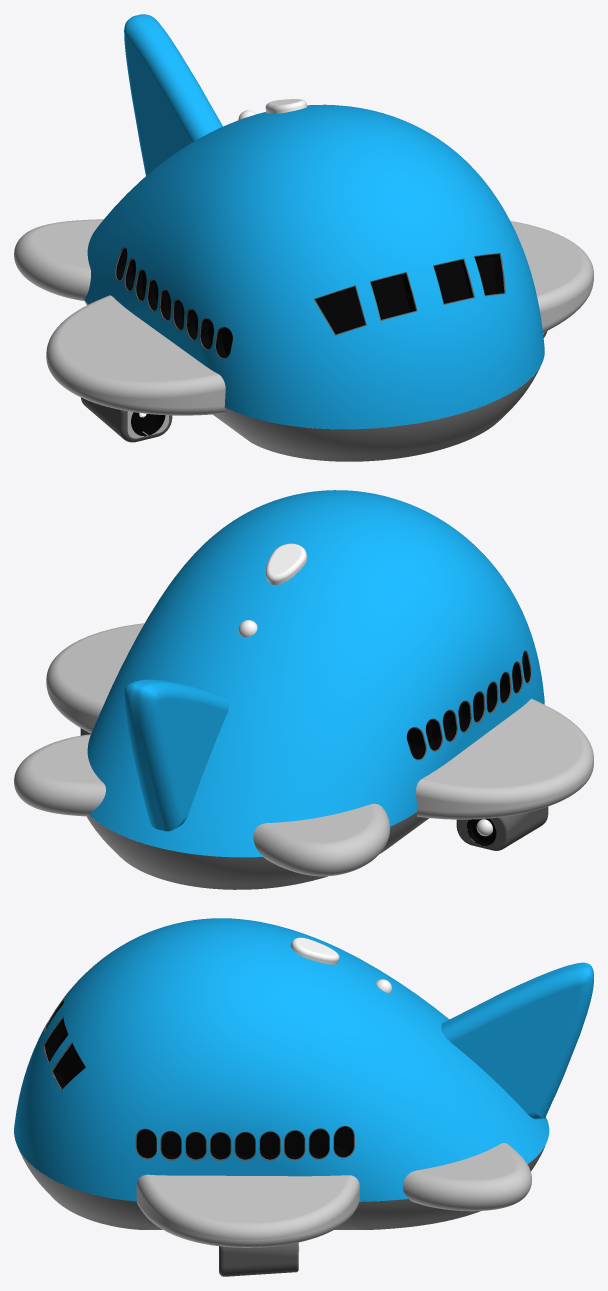
File: 3dplane.glb
The picture shows the model from 3 angles, top to bottom: view 1: azimuth 30°, elevation 25°; view 2: azimuth 150°, elevation 25°; view 3: azimuth 270°, elevation 25°; orthographic projection. The views are drawn at different scales.
Size of the model in its own units: 0.5938 by 0.294 by 0.6178.
